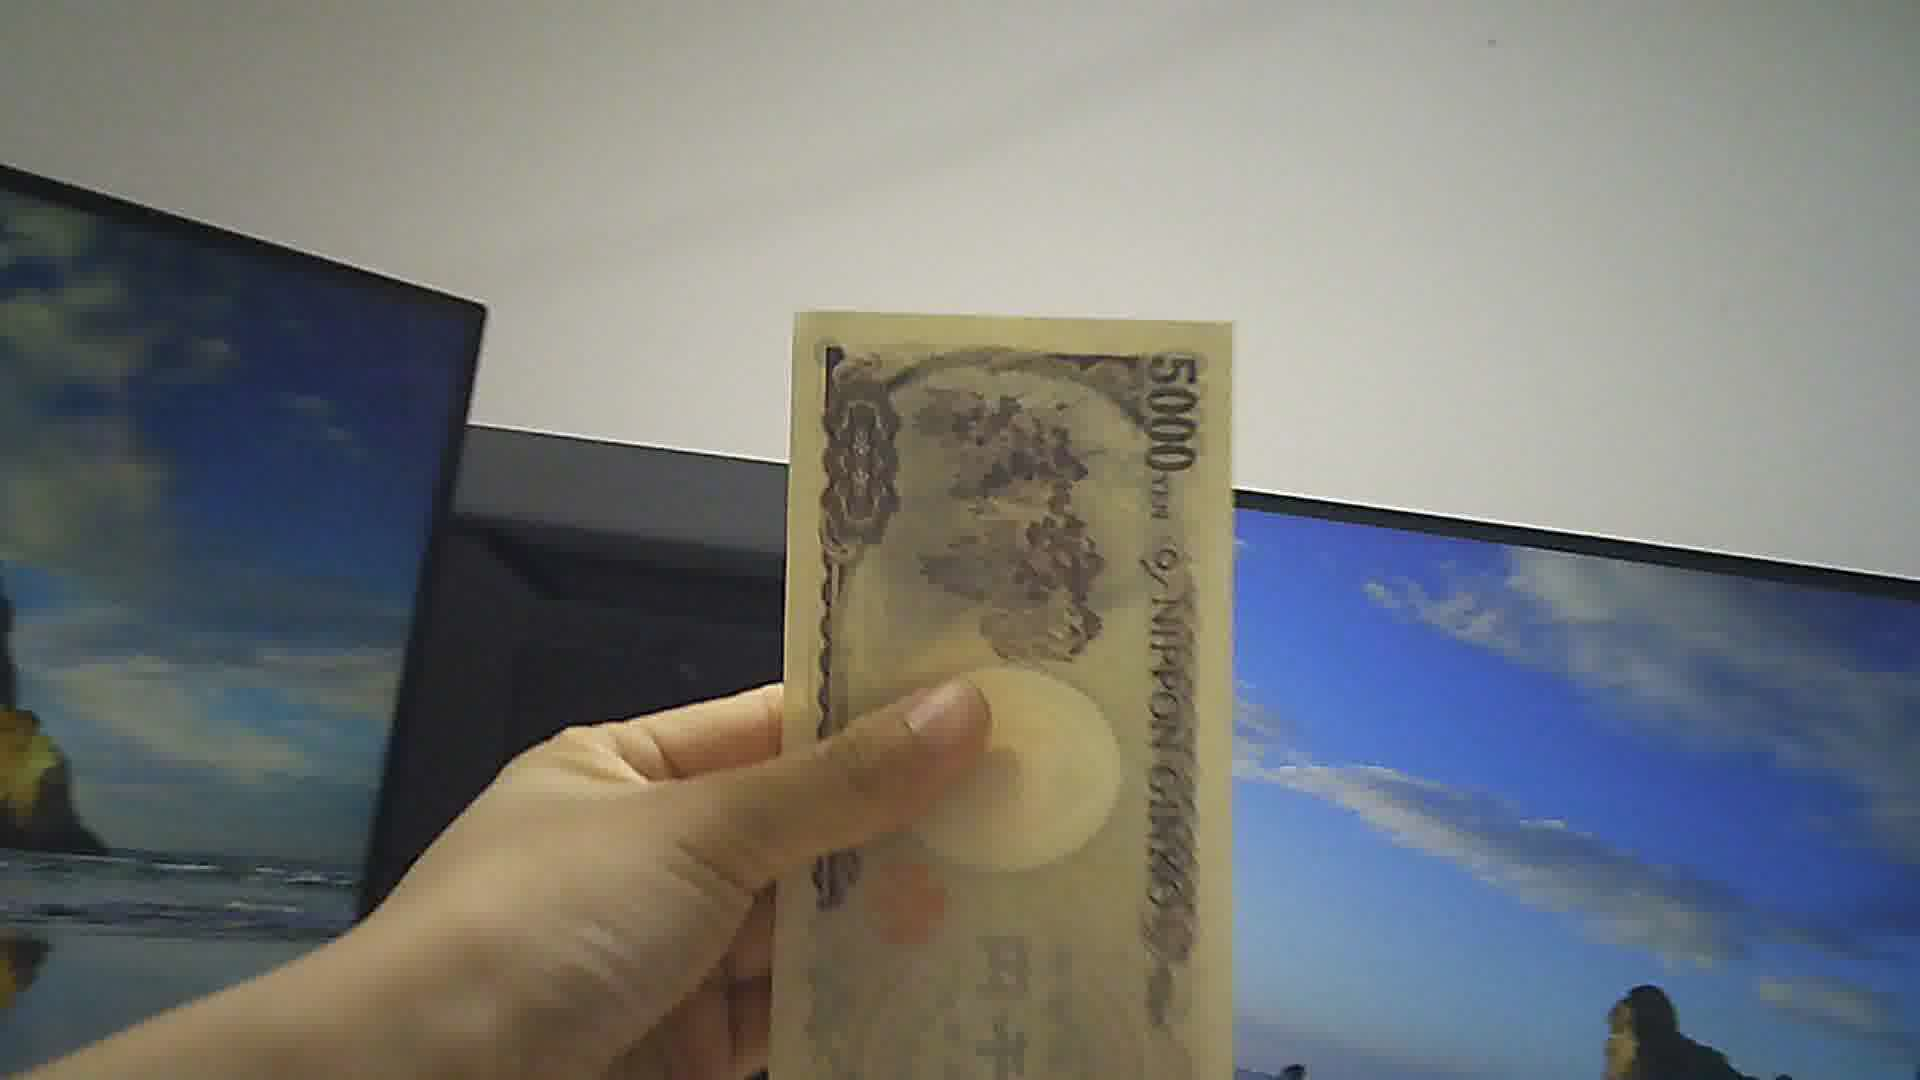5,000 Yen: (752, 291, 1230, 1079)
